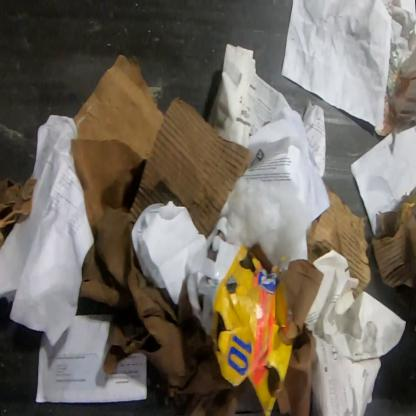cardboard: (186, 216, 295, 415), (129, 96, 251, 238), (72, 53, 166, 160), (307, 182, 372, 300), (370, 206, 415, 290), (0, 175, 39, 251)
